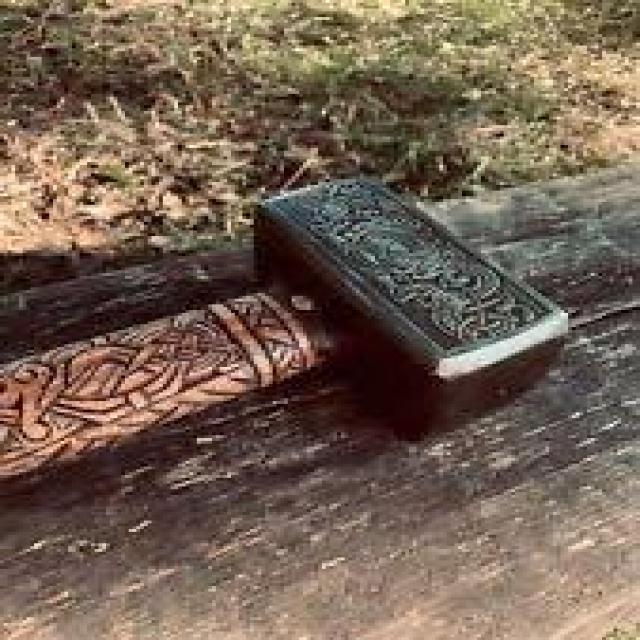hammer: (0, 169, 595, 502)
